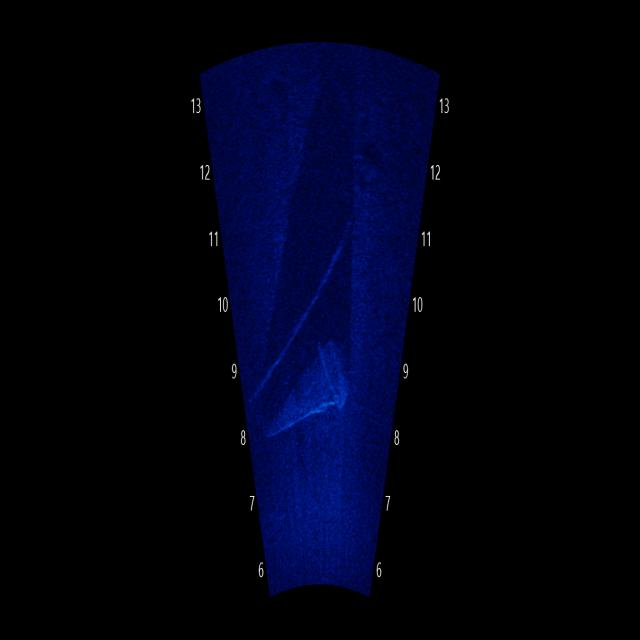triangle: (252, 318, 365, 448)
